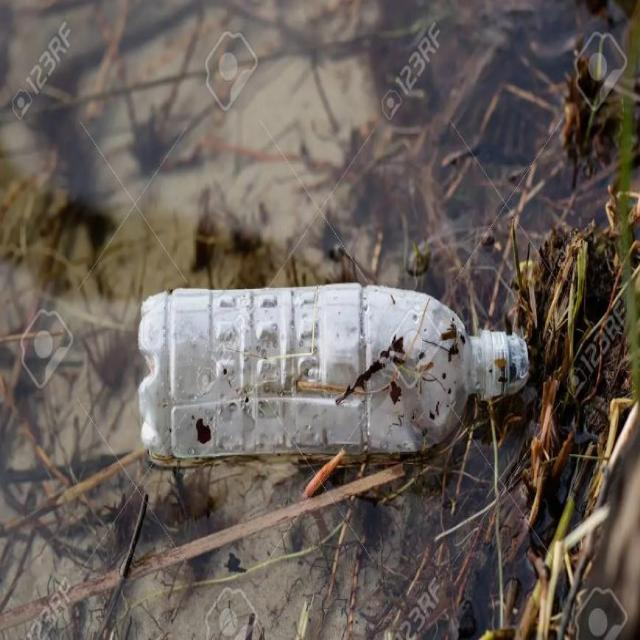bottle: (122, 249, 542, 503)
